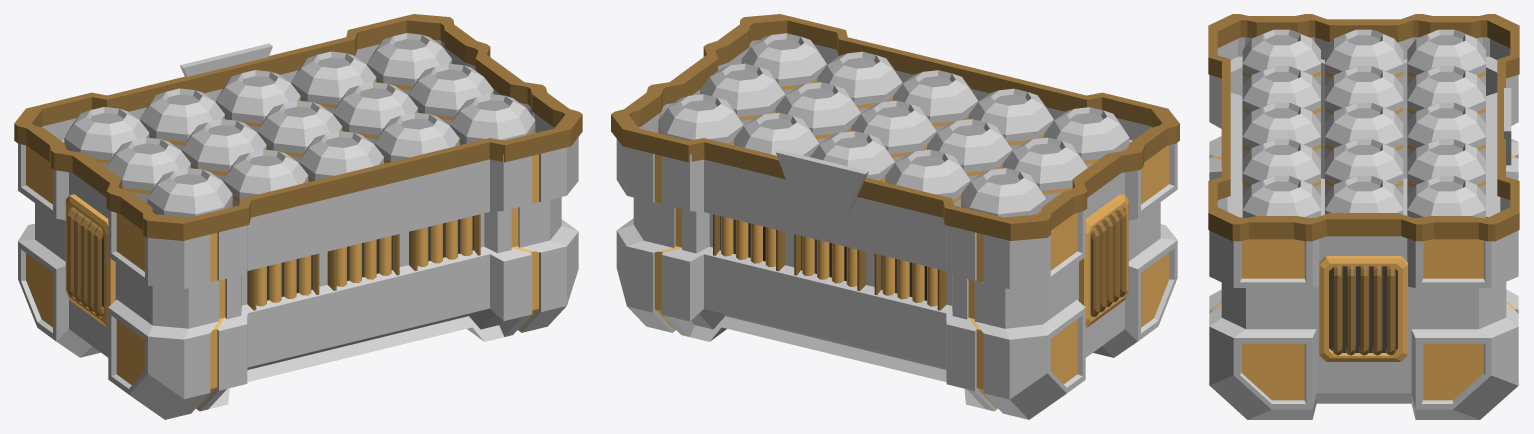
Rendered from sf_containerfull.glb.
3 renders of one model, left to right at view 1: azimuth 30°, elevation 25°; view 2: azimuth 150°, elevation 25°; view 3: azimuth 270°, elevation 25°, orthographic.
Visible parts, largest first — view 1: Props_ContainerFull; view 2: Props_ContainerFull; view 3: Props_ContainerFull.
Boxes of the visible parts, x1,y1,x2,y2 form: Props_ContainerFull: (14,14,582,419); Props_ContainerFull: (611,14,1179,419); Props_ContainerFull: (1208,14,1519,419).
Bounding box in the file's own units: 1.2 × 0.5824 × 0.7517.
